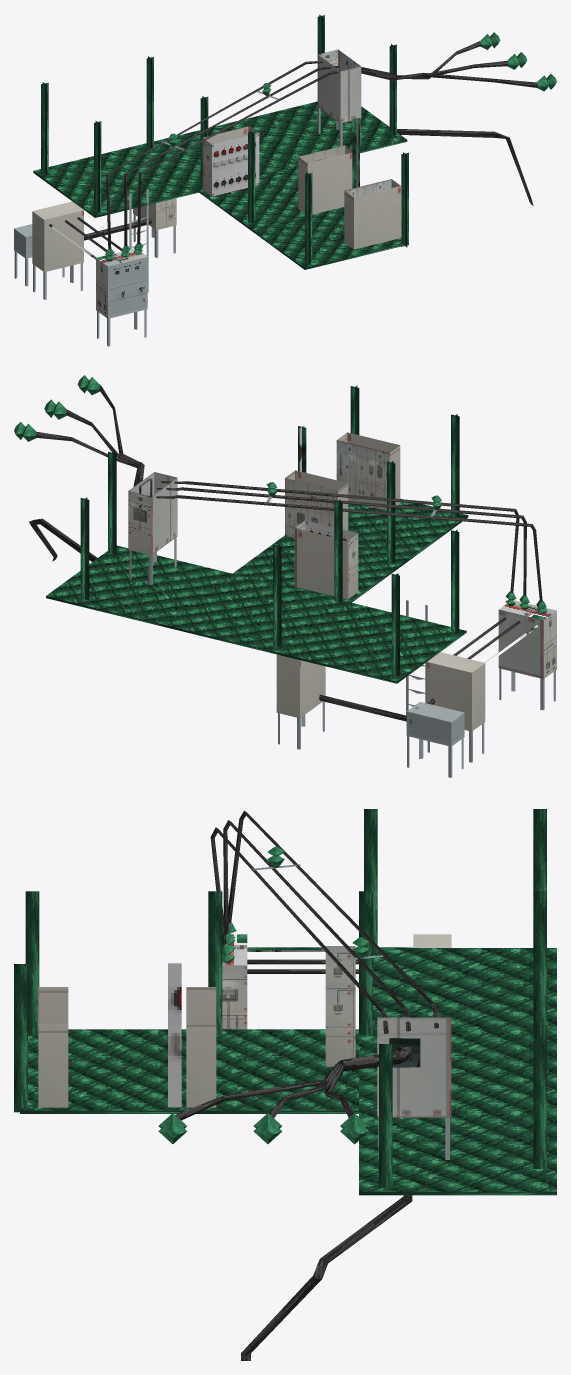
Rendered from KraftverkInteriorP2.glb.
3 renders of one model, top to bottom at view 1: azimuth 30°, elevation 25°; view 2: azimuth 150°, elevation 25°; view 3: azimuth 270°, elevation 25°, orthographic. The views are drawn at different scales.
Parts seen in each view (by area): view 1: StikkontaktVerkInteriour; view 2: StikkontaktVerkInteriour; view 3: StikkontaktVerkInteriour.
Boxes of the visible parts, <box> form: StikkontaktVerkInteriour: <box>14,14,556,346</box>; StikkontaktVerkInteriour: <box>14,375,556,777</box>; StikkontaktVerkInteriour: <box>14,809,556,1360</box>.
Bounding box in the file's own units: 18.49 × 7.28 × 12.44.
1 material, 1 textured.
